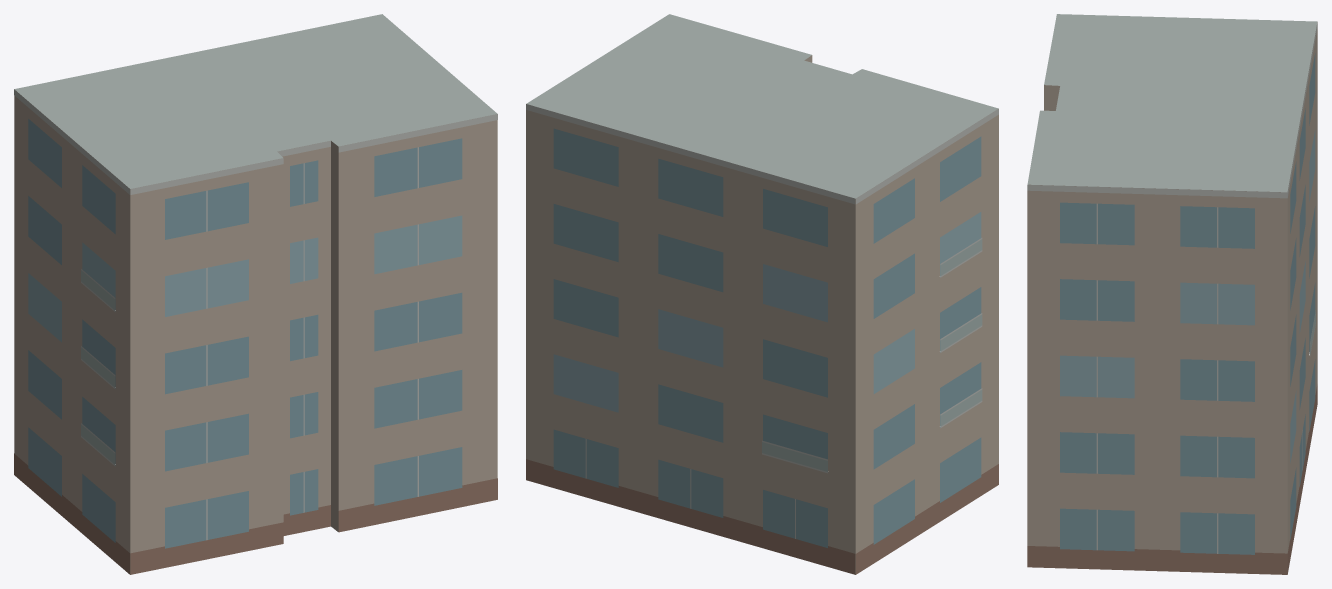
The model's file is survey-upis-32652704.glb.
The picture shows the model from 3 angles, left to right: view 1: azimuth 30°, elevation 25°; view 2: azimuth 150°, elevation 25°; view 3: azimuth 270°, elevation 25°; orthographic projection. The views are drawn at different scales.
Parts seen in each view (by area): view 1: survey-upis-32652704.tmp; view 2: survey-upis-32652704.tmp; view 3: survey-upis-32652704.tmp.
Boxes of the visible parts, left/top/right/bottom form: survey-upis-32652704.tmp: left=14, top=14, right=497, bottom=574; survey-upis-32652704.tmp: left=526, top=14, right=998, bottom=574; survey-upis-32652704.tmp: left=1027, top=14, right=1317, bottom=574.
Size of the model in its own units: 15.4 by 15.4 by 10.59.
